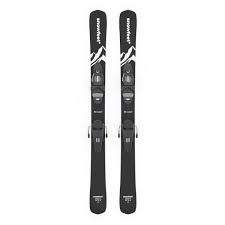skis: (88, 8, 138, 216)
